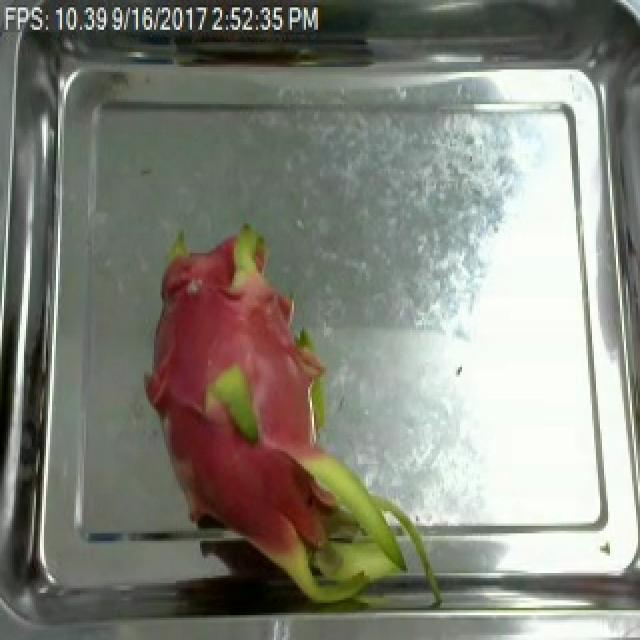fruit: (128, 235, 446, 618)
